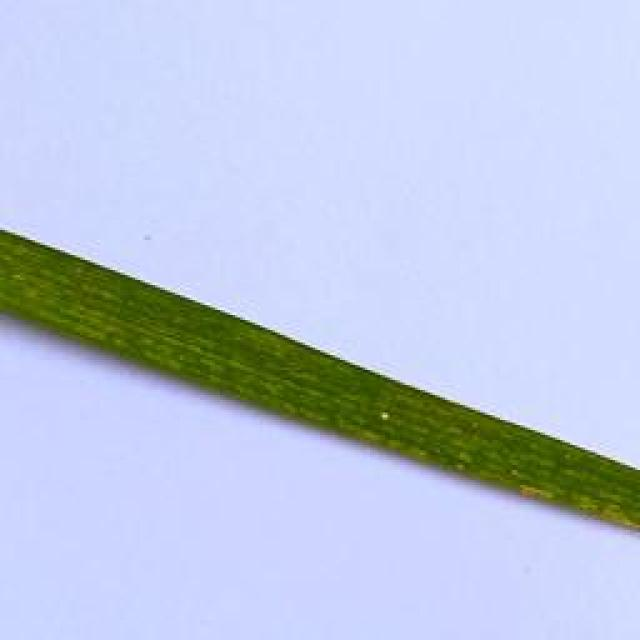Healthy-Plant: (0, 233, 640, 529)
